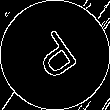P_SE: (25, 24, 85, 86)
